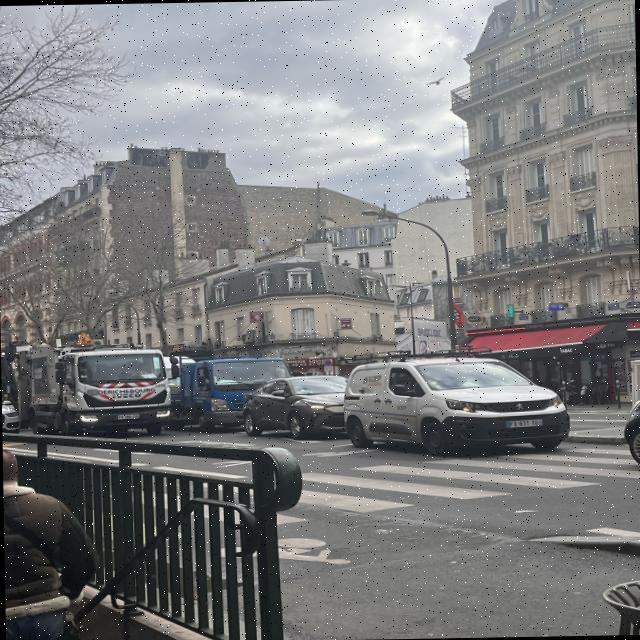Autre: (508, 416, 542, 429)
France: (110, 408, 150, 421)
